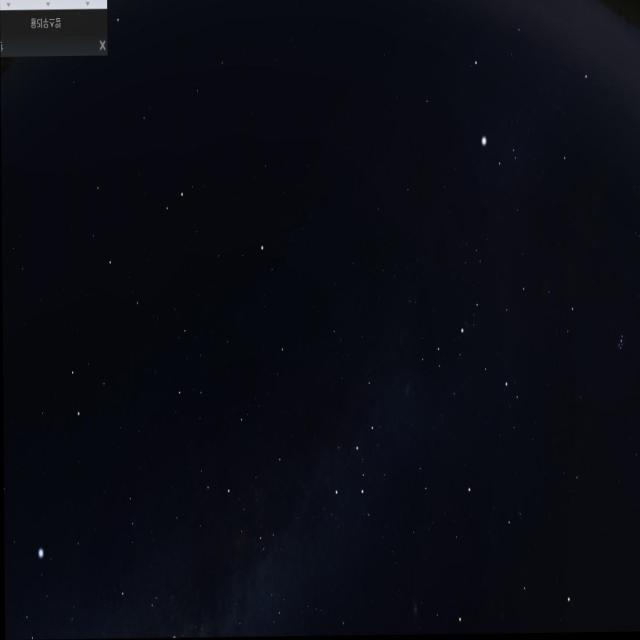cassiopeia: (328, 347, 393, 527)
pleiades: (608, 320, 632, 364)
